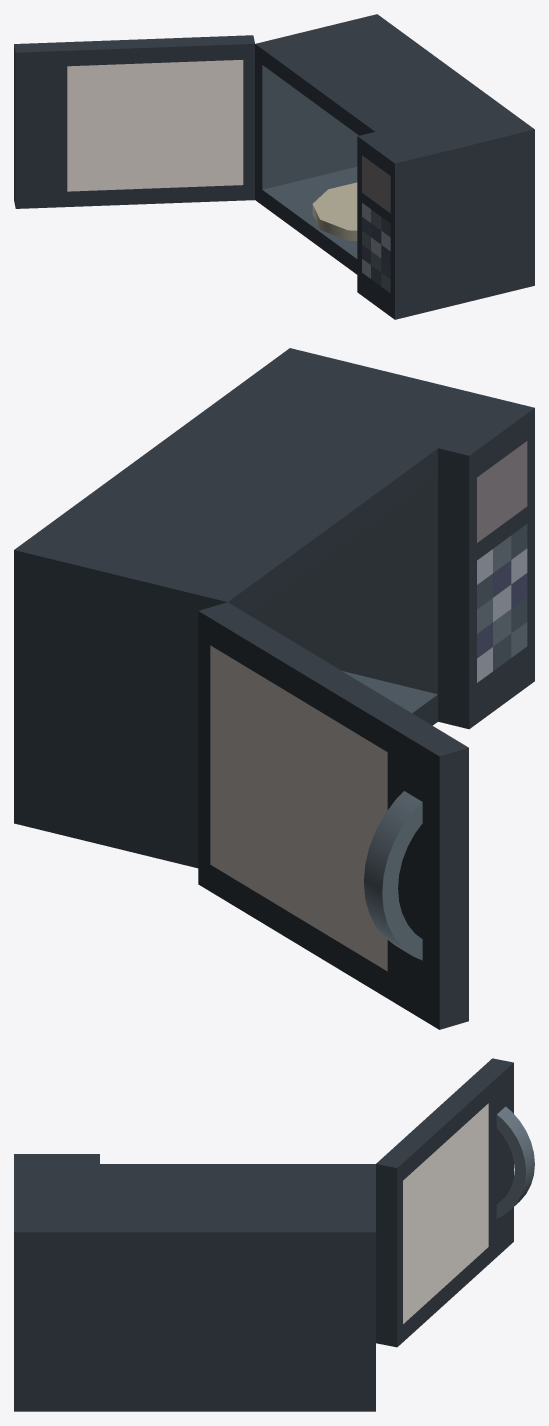
File: microwave_animations_take_2_microwave_close.fbx
The picture shows the model from 3 angles, top to bottom: view 1: azimuth 30°, elevation 25°; view 2: azimuth 150°, elevation 25°; view 3: azimuth 270°, elevation 25°; orthographic projection. The views are drawn at different scales.
Parts seen in each view (by area): view 1: Body, Microwave_Door, Spinny_Plate; view 2: Body, Microwave_Door, Handle; view 3: Body, Microwave_Door, Handle.
Boxes of the visible parts, x1,y1,x2,y2 form: Body: (255, 14, 534, 319); Microwave_Door: (14, 35, 254, 208); Spinny_Plate: (312, 182, 357, 240); Body: (14, 348, 534, 868); Microwave_Door: (198, 602, 468, 1029); Handle: (364, 791, 422, 960); Body: (14, 1154, 375, 1411); Microwave_Door: (376, 1058, 513, 1347); Handle: (496, 1106, 534, 1218).
Bounding box in the file's own units: 0.0222 × 0.0107 × 0.0281.
1 material, 1 textured.
